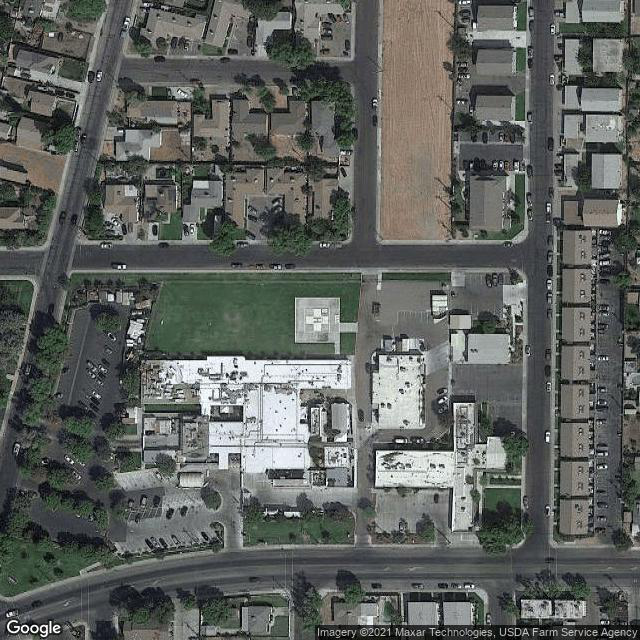Helipad: (297, 301, 334, 336)
